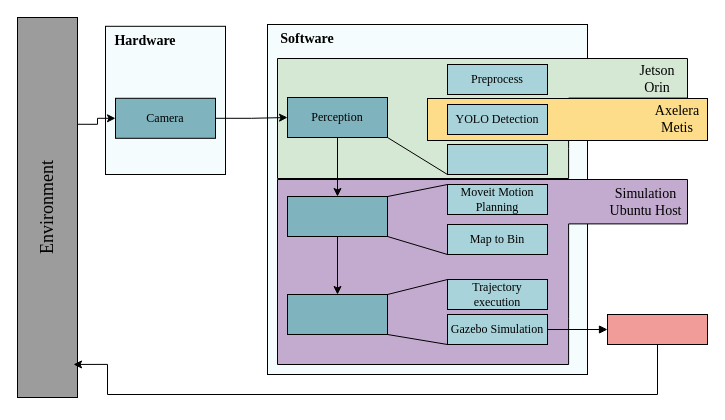
Image size: 725x420. Some labels were removed from this diagram. Each missing label, with the centre of its shape:
"Control" belongs at pixel 337 314.
"Human Mimicking Arm Movement" belongs at pixel 657 329.
"Planning" belongs at pixel 337 216.
"Postprocess" belongs at pixel 497 159.
